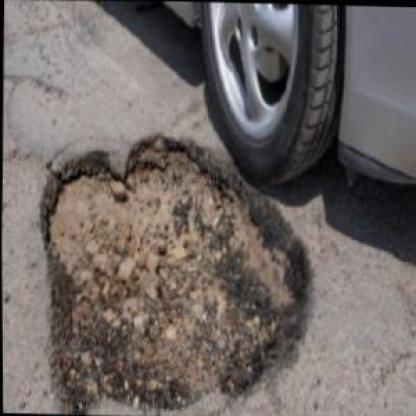pothole: (32, 129, 315, 415)
